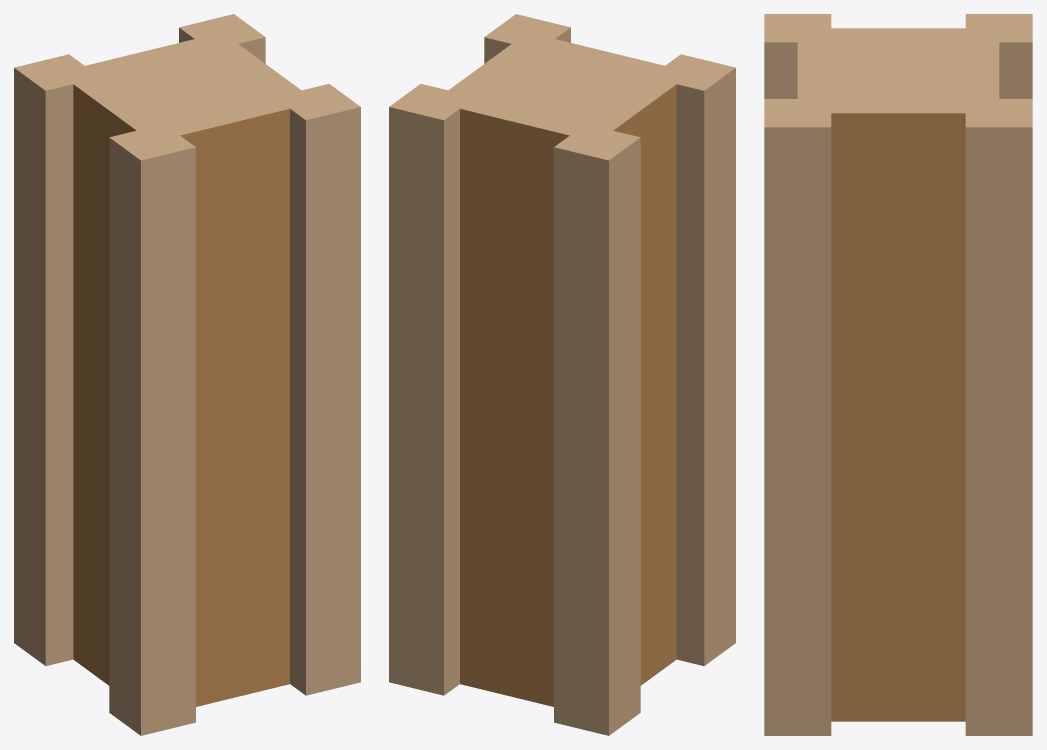
The model's file is Puzzle_Sliding_Pillar.fbx.
3 views of the same model, side by side, from view 1: azimuth 30°, elevation 25°; view 2: azimuth 150°, elevation 25°; view 3: azimuth 270°, elevation 25° (orthographic). The views are drawn at different scales.
Visible parts, largest first — view 1: Sandstone_4.Sandstone_4.Sandstone_4.Sandstone_4.object1, Sandstone_6.Sandstone_6.Sandstone_6.Sandstone_6; view 2: Sandstone_4.Sandstone_4.Sandstone_4.Sandstone_4.object1, Sandstone_6.Sandstone_6.Sandstone_6.Sandstone_6; view 3: Sandstone_4.Sandstone_4.Sandstone_4.Sandstone_4.object1, Sandstone_6.Sandstone_6.Sandstone_6.Sandstone_6.
Boxes of the visible parts, x1=… form: Sandstone_4.Sandstone_4.Sandstone_4.Sandstone_4.object1: x1=14, y1=14, x2=360, y2=735; Sandstone_6.Sandstone_6.Sandstone_6.Sandstone_6: x1=73, y1=84, x2=289, y2=706; Sandstone_4.Sandstone_4.Sandstone_4.Sandstone_4.object1: x1=389, y1=14, x2=735, y2=735; Sandstone_6.Sandstone_6.Sandstone_6.Sandstone_6: x1=460, y1=84, x2=676, y2=706; Sandstone_4.Sandstone_4.Sandstone_4.Sandstone_4.object1: x1=764, y1=14, x2=1032, y2=735; Sandstone_6.Sandstone_6.Sandstone_6.Sandstone_6: x1=831, y1=113, x2=965, y2=721.
Bounding box in the file's own units: 0.4 × 1 × 0.4.
